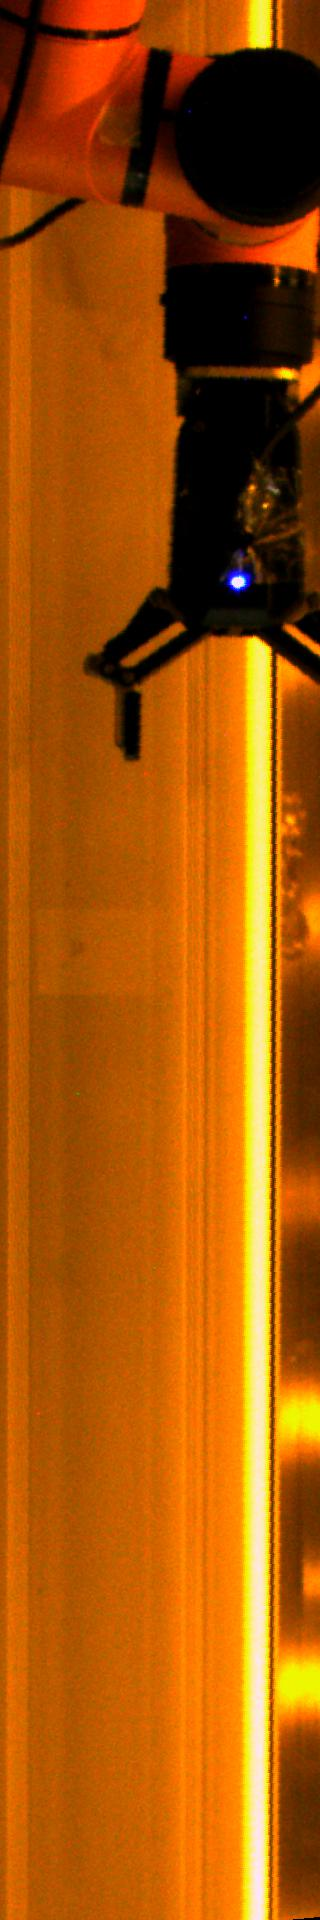keyPoint_1: (224, 567, 254, 598)
